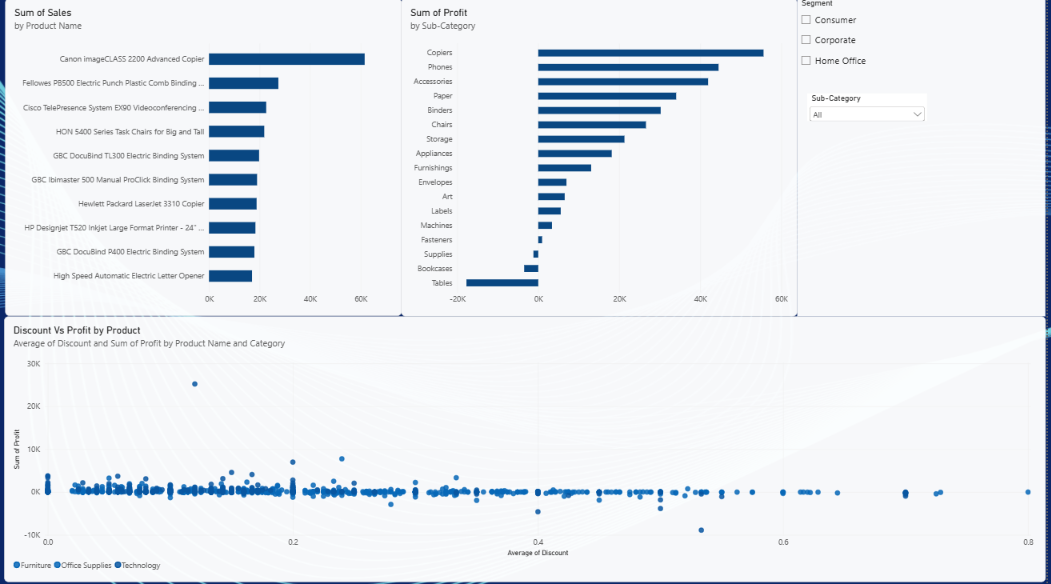

What the dashboard file says about the page in this screenshot:
{"tool":"powerbi","page":{"name":"Product Performance","canvas":[1920,1080],"ordinal":1},"visuals":[{"type":"clusteredBarChart","fields":{"Category":["Sample - Superstore.Product Name"],"Y":["Sum(Sample - Superstore.Sales)"]},"box":[10.9,0,727.5,582.7],"z":0},{"type":"clusteredBarChart","fields":{"Category":["Sample - Superstore.Sub-Category"],"Y":["Sum(Sample - Superstore.Profit)"]},"box":[737.4,0,726.4,583.3],"z":1000},{"type":"scatterChart","title":"Discount Vs Profit by Product","fields":{"Category":["Sample - Superstore.Product Name"],"Series":["Sample - Superstore.Category"],"X":["Avg(Sample - Superstore.Discount)"],"Y":["Sum(Sample - Superstore.Profit)"]},"box":[10,582.5,1910,487.5],"z":2000},{"type":"slicer","fields":{"Values":["Sample - Superstore.Segment"]},"box":[1463.7,0,454.9,583.3],"z":3000},{"type":"slicer","fields":{"Values":["Sample - Superstore.Sub-Category"]},"box":[1482.5,175,220,50],"z":4000}]}

Visuals, with their boxes in screenshot pixels (x1, y1, x2, y2), scaled from the page's 1920x1080 canvas onto the 1051x584 screenshot:
clusteredBarChart - Sample - Superstore.Product Name x Sum(Sample - Superstore.Sales): box(6, 0, 404, 315)
clusteredBarChart - Sample - Superstore.Sub-Category x Sum(Sample - Superstore.Profit): box(404, 0, 801, 315)
"Discount Vs Profit by Product" scatterChart: box(5, 315, 1050, 579)
slicer - Sample - Superstore.Segment: box(801, 0, 1050, 315)
slicer - Sample - Superstore.Sub-Category: box(812, 95, 932, 122)
